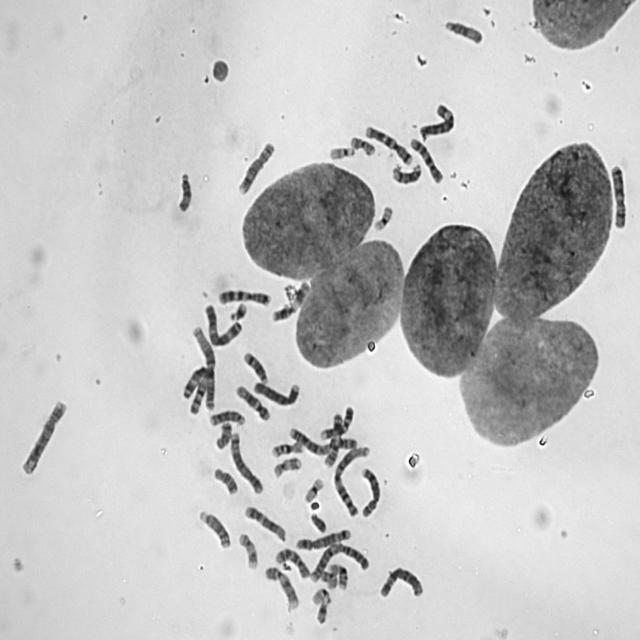A1: (329, 442, 372, 518), (187, 321, 217, 414)
A2: (306, 540, 370, 583), (285, 424, 359, 454)
A3: (201, 299, 243, 347), (179, 363, 216, 413)
B4: (18, 395, 68, 476), (250, 377, 301, 407)
B5: (227, 427, 264, 495), (294, 524, 352, 550)
C10: (406, 133, 444, 185), (272, 544, 311, 580)
C11: (268, 277, 311, 324), (320, 409, 345, 469)
C12: (241, 502, 288, 543), (232, 380, 271, 422)
C6: (376, 563, 425, 600), (416, 99, 457, 141)
C7: (362, 121, 414, 166), (215, 285, 272, 307)
C8: (234, 137, 276, 195), (357, 464, 382, 519)
C9: (261, 562, 300, 612), (316, 402, 356, 442)
D13: (195, 506, 231, 550), (206, 406, 246, 428)
D14: (240, 348, 268, 384), (389, 158, 422, 186)
D15: (441, 15, 484, 46), (174, 168, 192, 214)
E16: (268, 437, 305, 459), (324, 559, 348, 590)
E17: (234, 529, 258, 571), (269, 454, 303, 479)
E18: (210, 464, 239, 497), (212, 418, 233, 451)
F19: (300, 474, 325, 504), (370, 202, 394, 232)
F20: (347, 132, 376, 157), (320, 562, 338, 589)
G21: (313, 594, 331, 624), (226, 298, 248, 322)
G22: (326, 142, 356, 161), (309, 585, 332, 606)
X: (608, 161, 628, 230)
Y: (308, 510, 328, 534)
